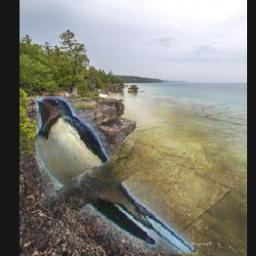Swallow: (36, 96, 194, 254)
